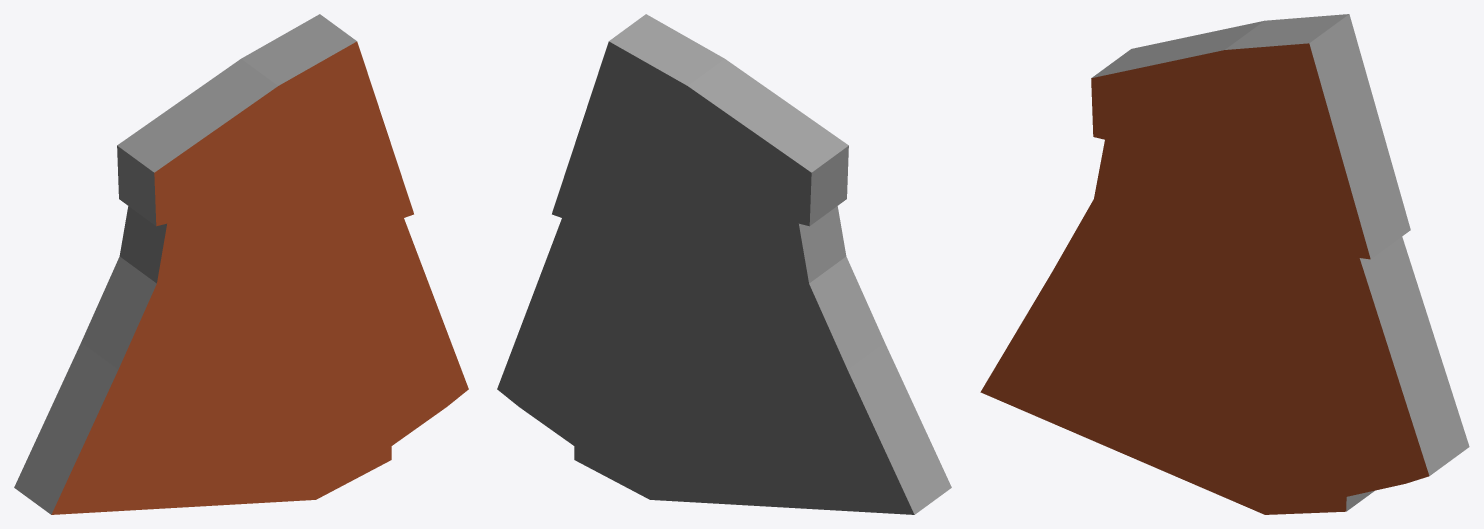
File: construction_7075_assumed_A_Casa_h6m.obj
The picture shows the model from 3 angles, left to right: view 1: azimuth 30°, elevation 25°; view 2: azimuth 150°, elevation 25°; view 3: azimuth 330°, elevation 25°; orthographic projection. The views are drawn at different scales.
Parts seen in each view (by area): view 1: construction_7075_assumed_A_Casa; view 2: construction_7075_assumed_A_Casa; view 3: construction_7075_assumed_A_Casa.
Boxes of the visible parts, <box> form: construction_7075_assumed_A_Casa: <box>14,14,468,514</box>; construction_7075_assumed_A_Casa: <box>497,14,951,514</box>; construction_7075_assumed_A_Casa: <box>980,14,1469,514</box>.
Size of the model in its own units: 38.79 by 39.81 by 6.
